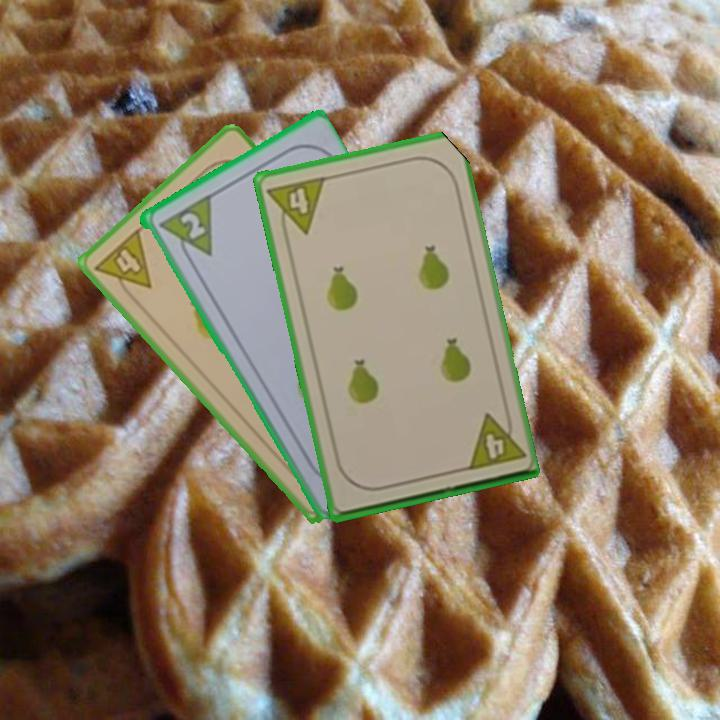2p: (176, 208, 208, 243)
4p: (91, 224, 155, 305), (264, 173, 328, 241), (462, 407, 526, 473)
